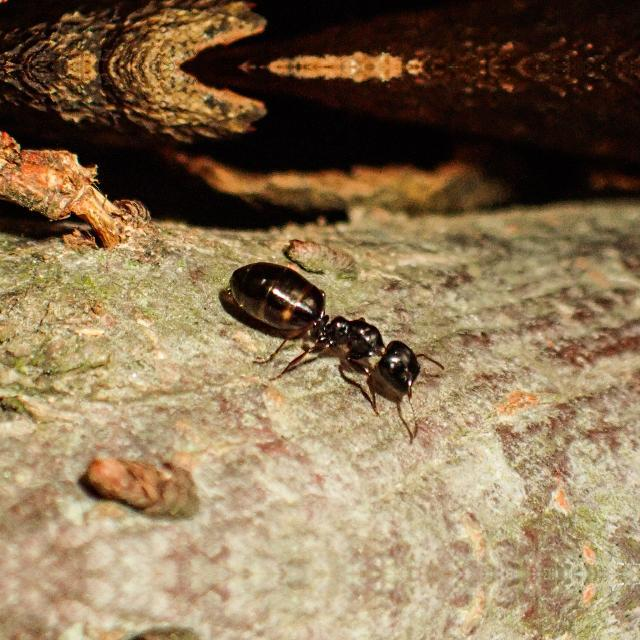Colobopsis: (220, 249, 452, 413)
